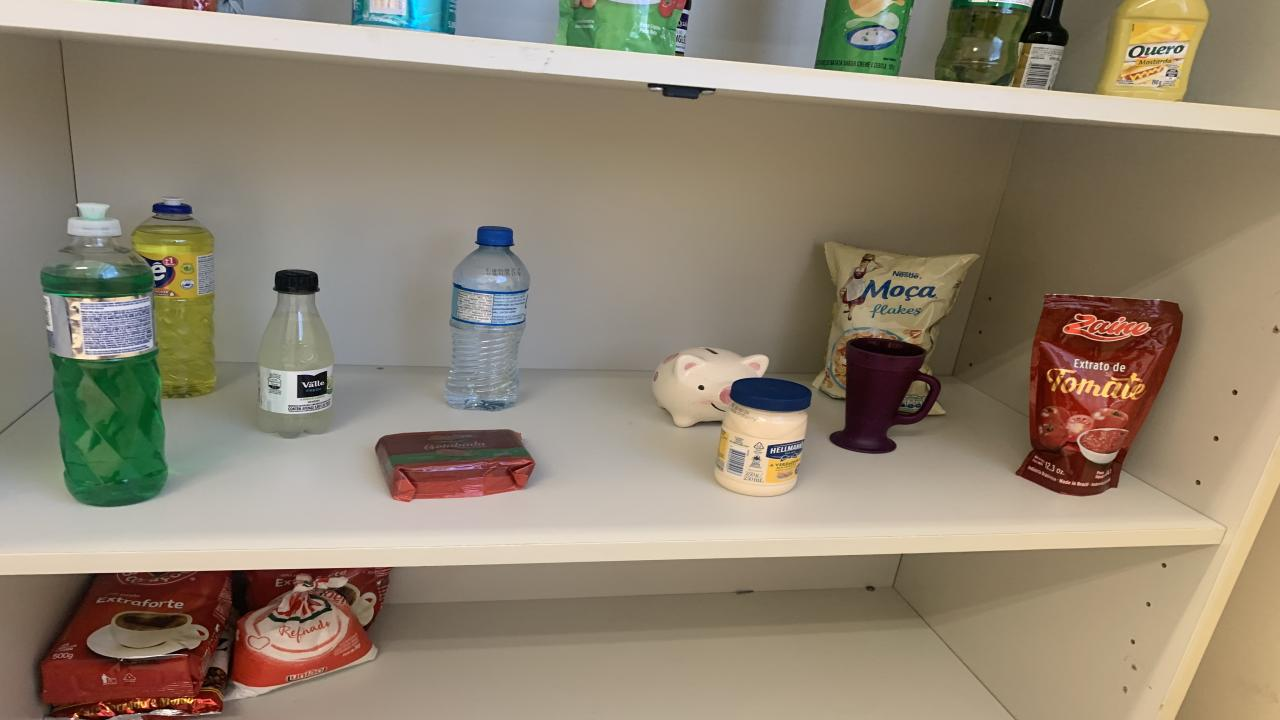Detergent-Cleanup_Items: (40, 202, 168, 506), (130, 197, 215, 398)
English_Sauce-Pantry_Items: (1012, 0, 1070, 90)
Flakes-Snacks: (812, 242, 978, 398)
Guarana-Drinks: (935, 0, 1032, 86)
Guava-Snacks: (375, 429, 535, 501)
Mayonnaise-Pantry_Items: (715, 377, 810, 497)
Mustard-Pantry_Items: (1095, 0, 1210, 101)
Pig_Safe-Miscellaneous: (652, 347, 770, 428)
Pringles-Snacks: (815, 0, 912, 75)
Soda-Drinks: (258, 270, 335, 439)
Tea-Drinks: (352, 0, 455, 34)
Tomato_Sauce-Pantry_Items: (1018, 294, 1182, 495), (555, 0, 688, 54), (142, 0, 218, 11)
Water_Bottle-Drinks: (445, 227, 530, 411)
